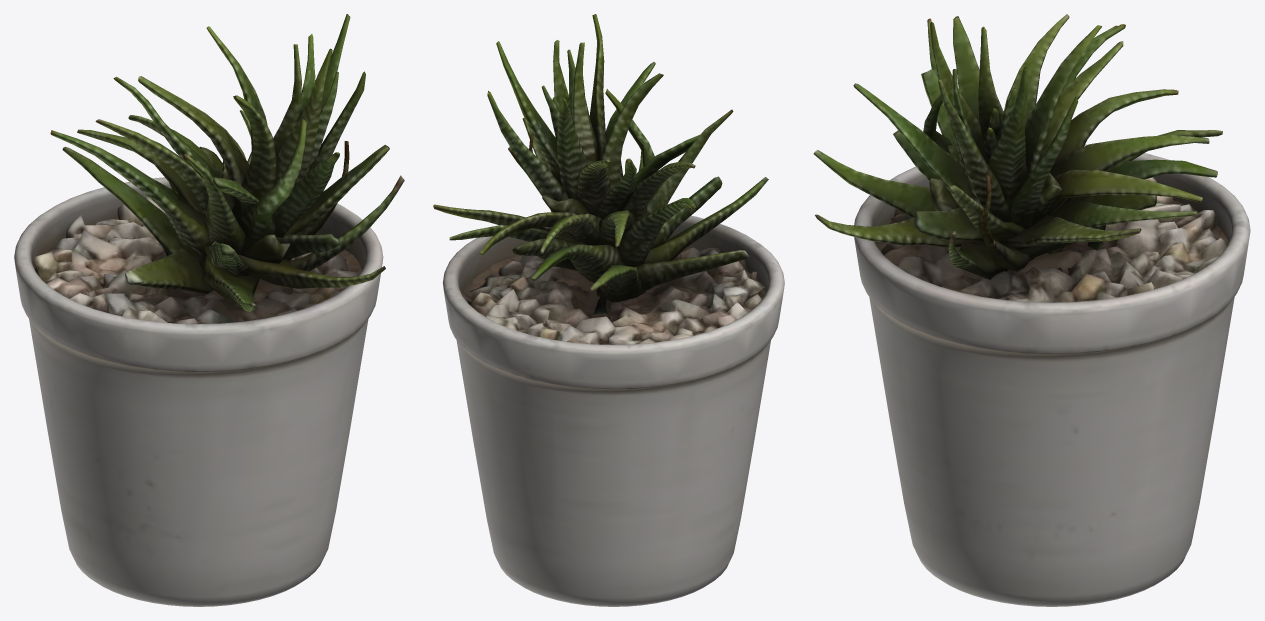
The model's file is potted_plant_04.glb.
3 views of the same model, side by side, from view 1: azimuth 30°, elevation 25°; view 2: azimuth 150°, elevation 25°; view 3: azimuth 270°, elevation 25° (orthographic). The views are drawn at different scales.
Parts seen in each view (by area): view 1: potted_plant_04_ground; view 2: potted_plant_04_ground; view 3: potted_plant_04_ground.
Boxes of the visible parts, left/top/right/bottom form: potted_plant_04_ground: left=14, top=14, right=404, bottom=606; potted_plant_04_ground: left=433, top=14, right=784, bottom=606; potted_plant_04_ground: left=813, top=14, right=1250, bottom=606.
Bounding box in the file's own units: 0.1679 × 0.2675 × 0.1847.
Materials: 1 (1 with a texture image).
